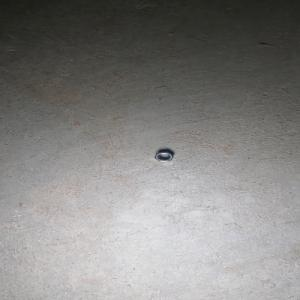Nut: (154, 150, 174, 161)
